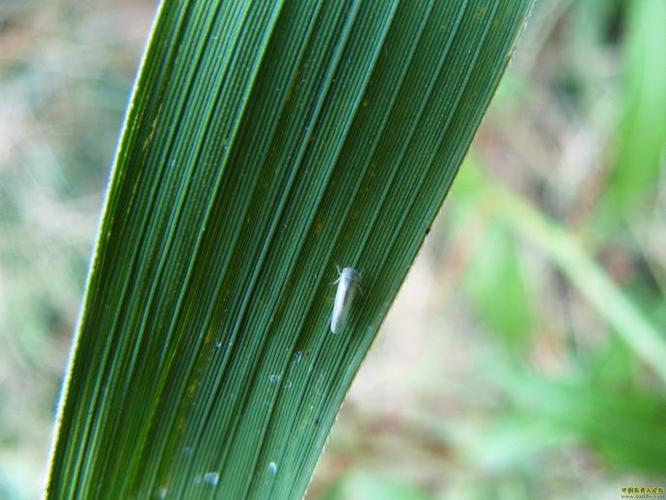Cicadellidae: (328, 266, 363, 332)
